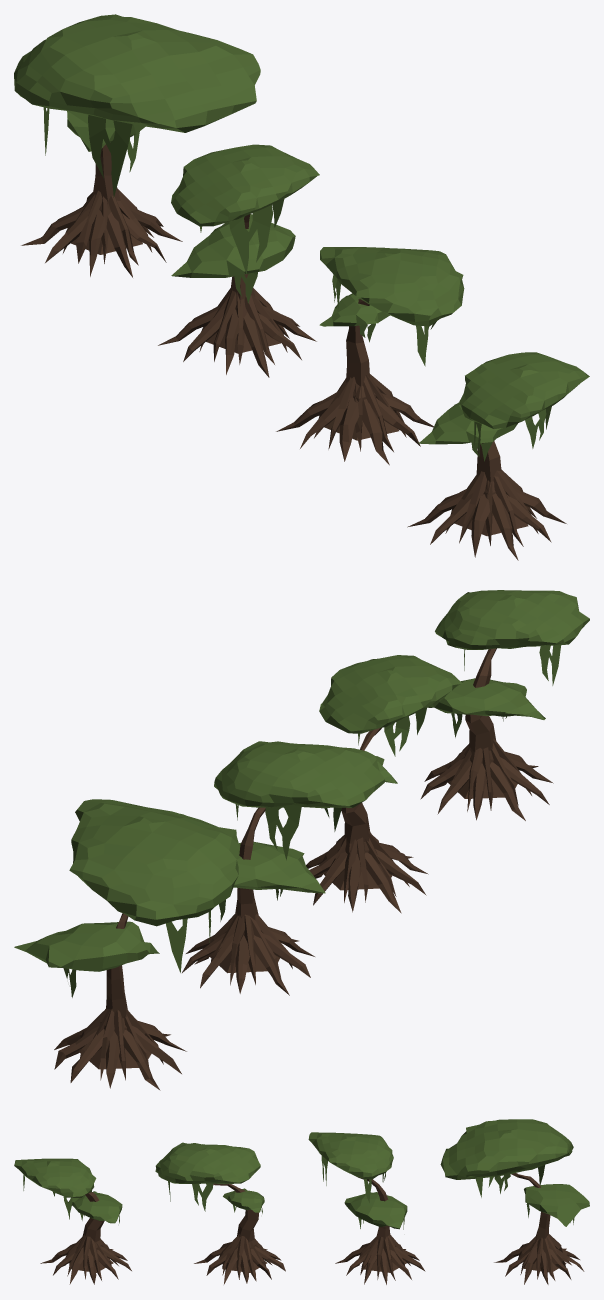
File: StandingSwampTreesV2.fbx
3 views of the same model, one above another, from view 1: azimuth 30°, elevation 25°; view 2: azimuth 150°, elevation 25°; view 3: azimuth 270°, elevation 25° (orthographic). The views are drawn at different scales.
Parts seen in each view (by area): view 1: Plane.006, Icosphere.003, Icosphere.005, Icosphere; view 2: Plane.006, Icosphere.003, Icosphere, Icosphere.005; view 3: Plane.006, Icosphere.005, Icosphere.003, Icosphere.
Boxes of the visible parts, x1,y1,x2,y2 form: Plane.006: (14, 14, 260, 277); Icosphere.003: (158, 144, 319, 377); Icosphere.005: (276, 247, 464, 465); Icosphere: (407, 352, 589, 560); Plane.006: (14, 799, 239, 1090); Icosphere.003: (182, 741, 384, 995); Icosphere: (420, 590, 589, 820); Icosphere.005: (306, 655, 462, 913); Plane.006: (440, 1119, 589, 1284); Icosphere.005: (155, 1142, 285, 1284); Icosphere.003: (308, 1132, 425, 1284); Icosphere: (14, 1158, 131, 1284).
Bounding box in the file's own units: 2300 × 2715 × 10258.
